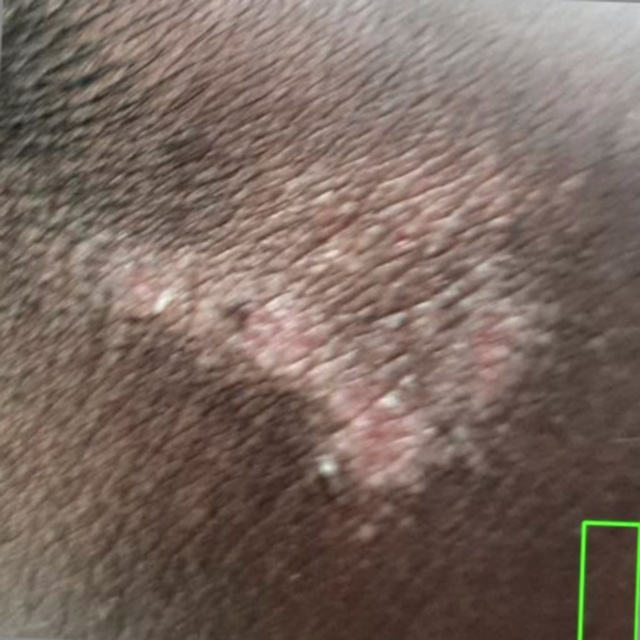Contact Dermatitis: (580, 522, 639, 639)
